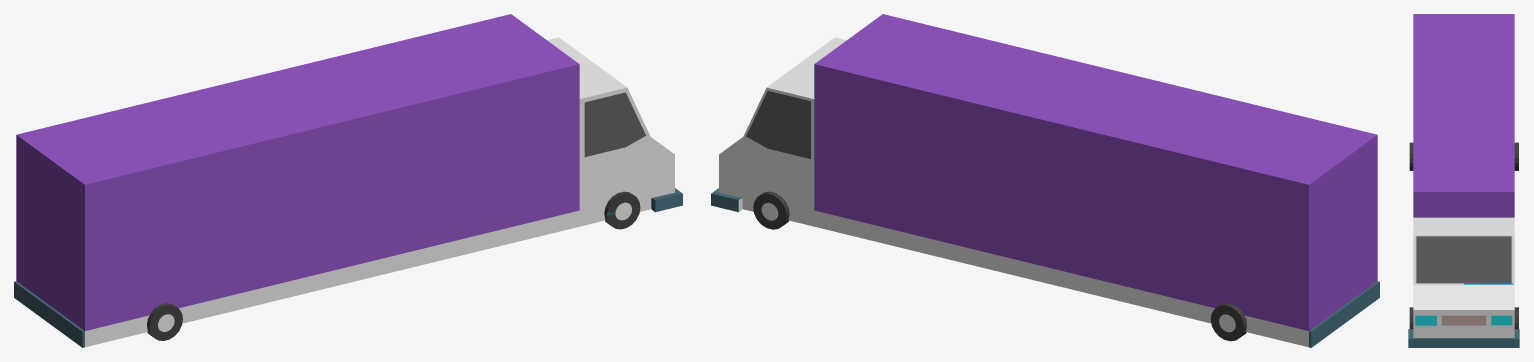
The model's file is Kamionce4x1Purple.fbx.
The picture shows the model from 3 angles, left to right: view 1: azimuth 30°, elevation 25°; view 2: azimuth 150°, elevation 25°; view 3: azimuth 270°, elevation 25°; orthographic projection. The views are drawn at different scales.
Visible parts, largest first — view 1: Car_08_4; view 2: Car_08_4; view 3: Car_08_4.
Boxes of the visible parts, box(x1,y1,x2,y2) form: Car_08_4: box(14, 14, 682, 347); Car_08_4: box(711, 14, 1379, 347); Car_08_4: box(1408, 14, 1519, 347).
Size of the model in its own units: 3.99 by 1.1 by 0.8755.
1 material, 1 textured.
